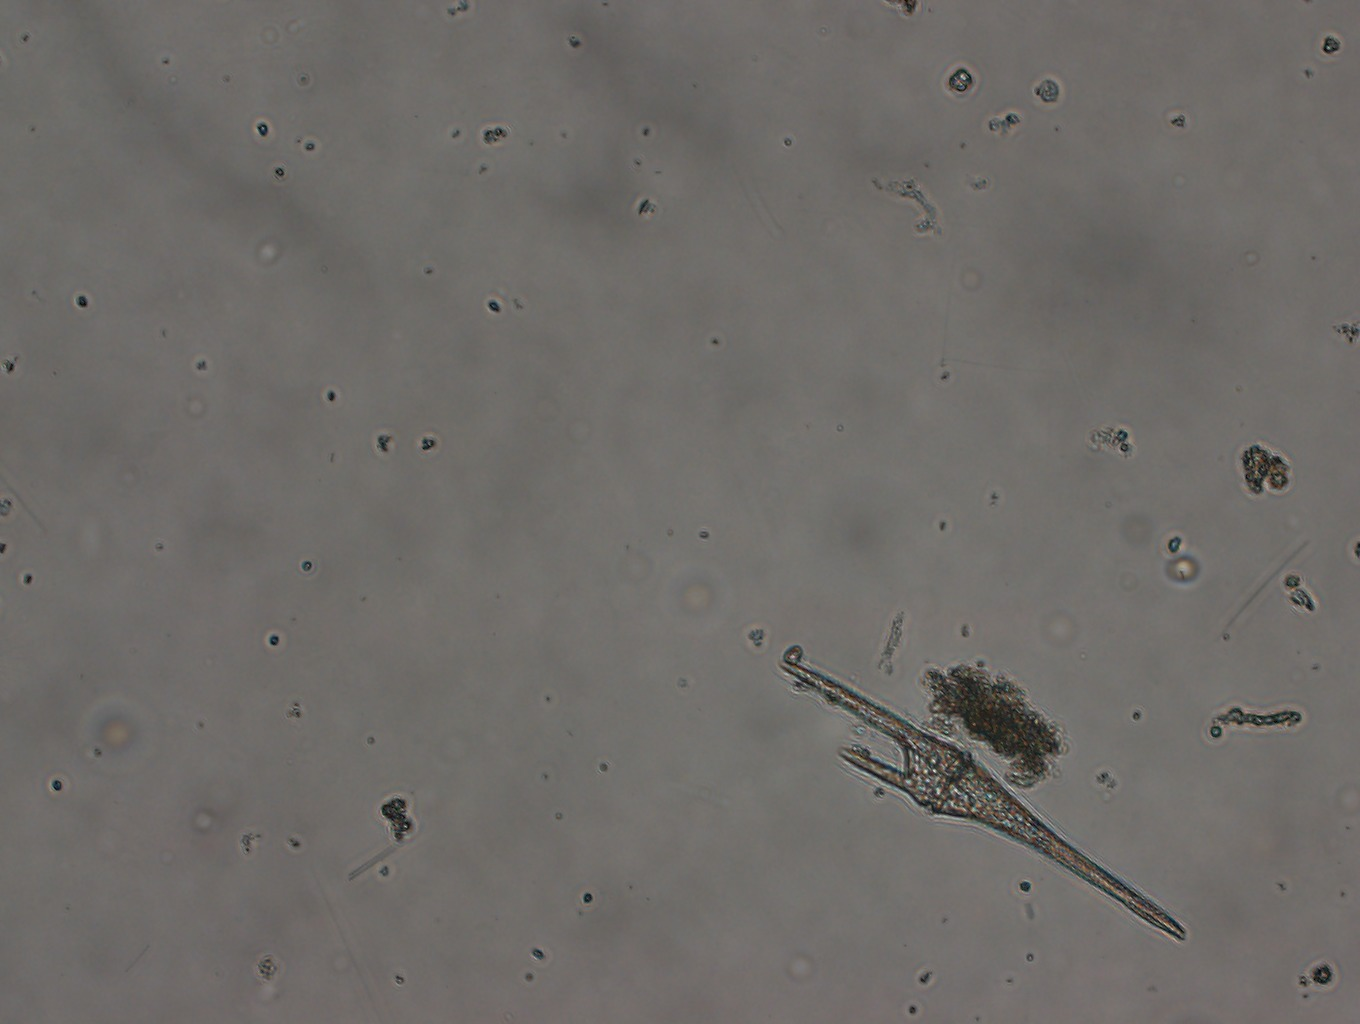ceratium furca: (773, 657, 1189, 945)
